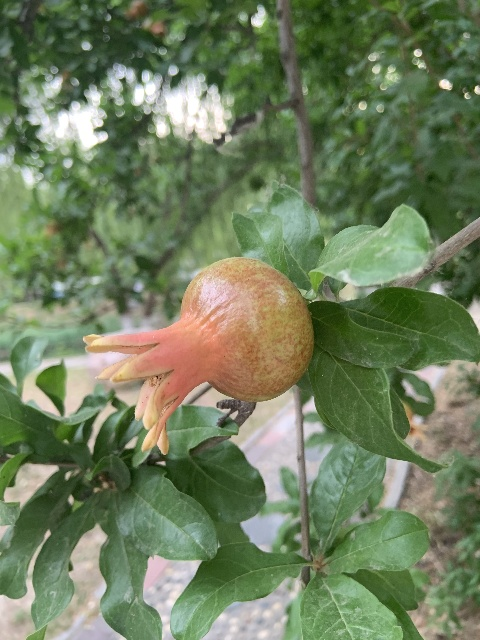early-fruit: (84, 256, 312, 454)
